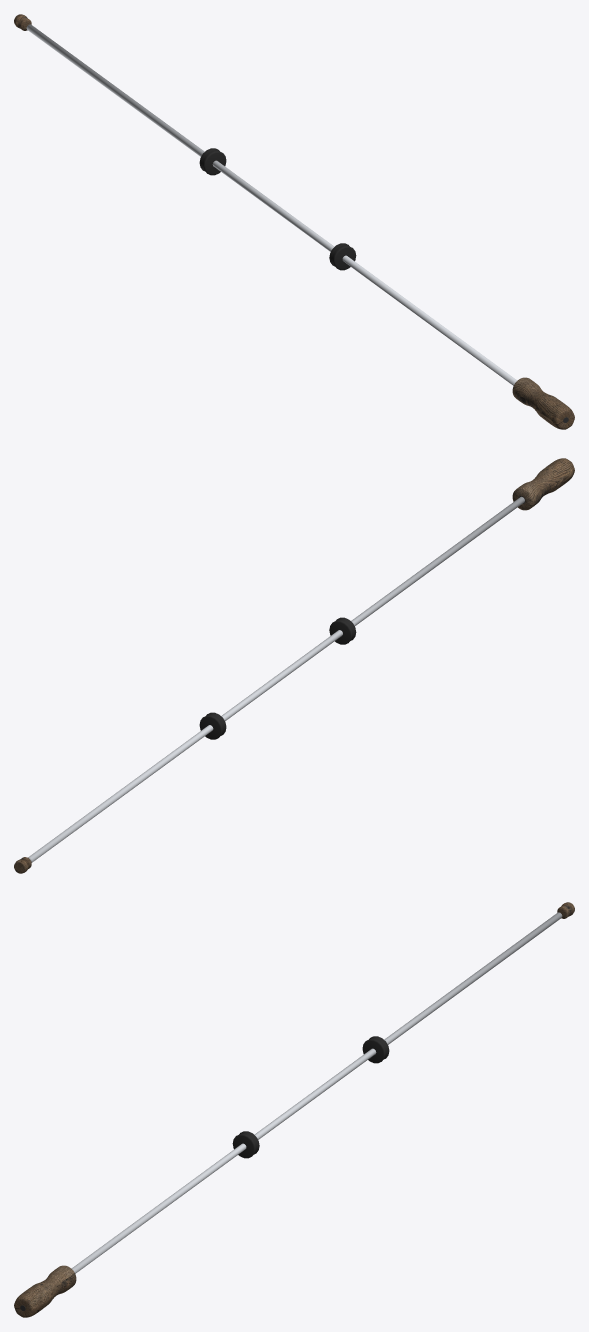
File: fuzeball_rod_1man.glb
3 views of the same model, one above another, from view 1: azimuth 30°, elevation 25°; view 2: azimuth 150°, elevation 25°; view 3: azimuth 330°, elevation 25° (orthographic).
Visible parts, largest first — view 1: rod1_bar.001, rod1_handle.wood; view 2: rod1_bar.001, rod1_handle.wood; view 3: rod1_bar.001, rod1_handle.wood.
Part boxes in pixels (x1,y1,x2,y2): rod1_bar.001: (26, 24, 517, 385); rod1_handle.wood: (512, 377, 574, 429); rod1_bar.001: (28, 496, 524, 862); rod1_handle.wood: (512, 458, 574, 510); rod1_bar.001: (71, 912, 562, 1273); rod1_handle.wood: (14, 1265, 76, 1317).
Bounding box in the file's own units: 3.02 × 3.02 × 126.
4 materials, 1 textured.
